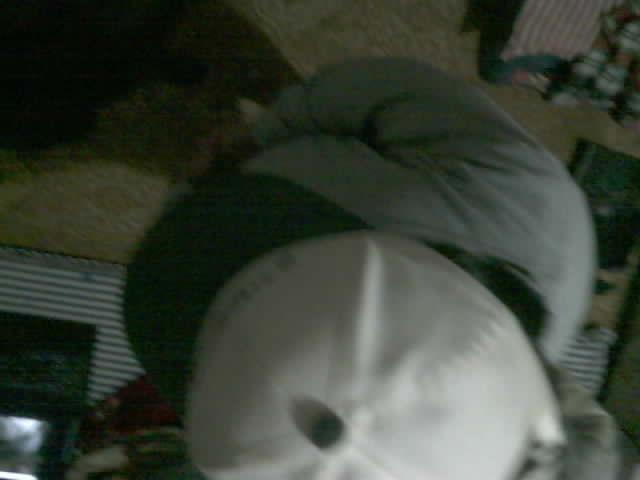cap: (182, 229, 571, 479)
